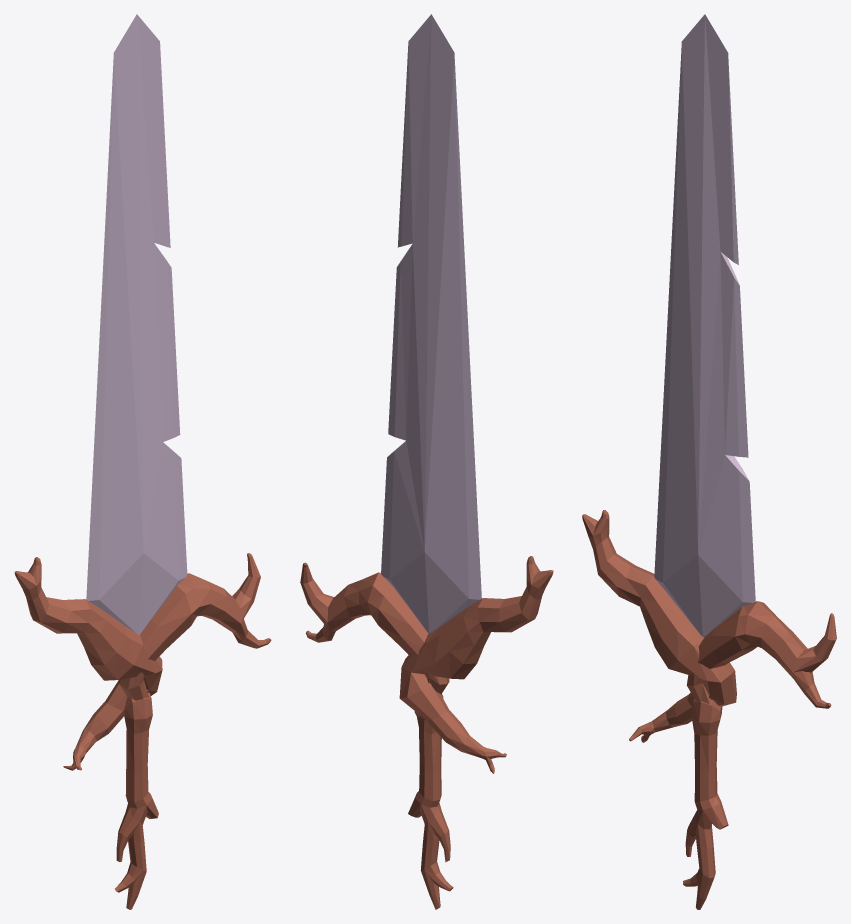
Rendered from RootSwordFinn.fbx.
3 views of the same model, side by side, from view 1: azimuth 30°, elevation 25°; view 2: azimuth 150°, elevation 25°; view 3: azimuth 330°, elevation 25° (orthographic).
Parts seen in each view (by area): view 1: RootSword; view 2: RootSword; view 3: RootSword.
Part boxes in pixels (x1,y1,x2,y2): RootSword: [14, 14, 271, 909]; RootSword: [300, 14, 553, 909]; RootSword: [582, 14, 836, 909].
Bounding box in the file's own units: 34.61 × 117 × 6.61.
